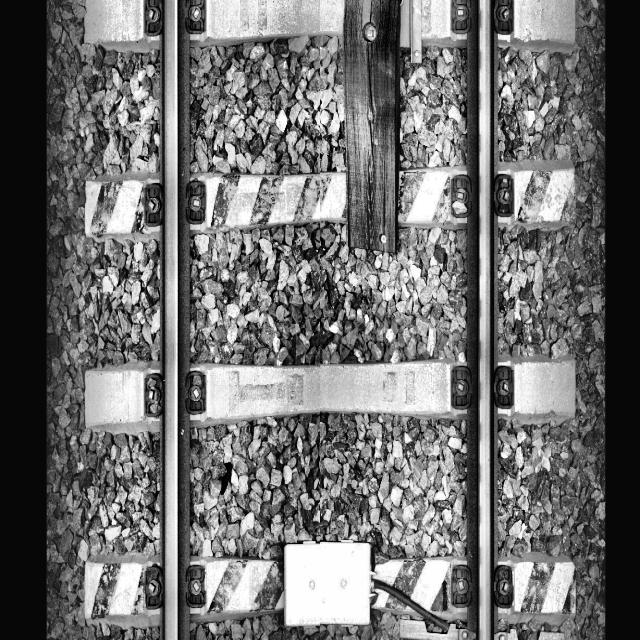Clips: (180, 366, 212, 418), (141, 559, 167, 610), (449, 363, 475, 413), (183, 561, 209, 609), (184, 173, 206, 226), (450, 561, 474, 609), (493, 173, 517, 220), (450, 172, 473, 221), (492, 362, 515, 410), (492, 560, 514, 610), (143, 180, 163, 228), (144, 371, 164, 419), (490, 0, 516, 34), (448, 0, 471, 37), (142, 0, 164, 38), (185, 0, 206, 32)
Sleepers: (85, 544, 579, 629), (84, 361, 578, 428), (84, 173, 585, 230), (83, 1, 577, 54)
